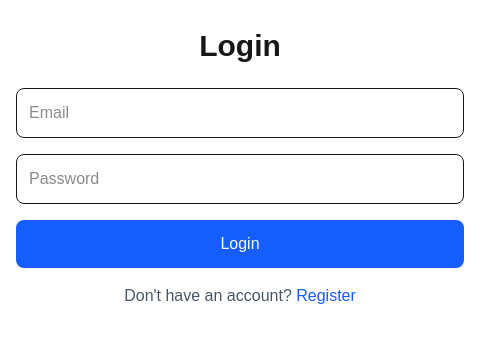
Test: LoginPage › should display generic error on signIn rejection
The width and height of the screenshot is (481, 339).
Type "test@test.com" into the field with placeholder "Email" at {"x": 240, "y": 113}, box [16, 88, 464, 138]
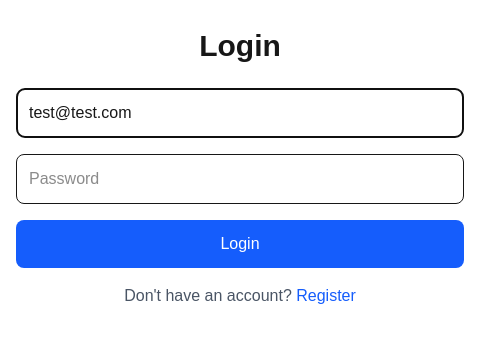
Type "password123" into the password field with placeholder "Password" at {"x": 240, "y": 179}, box [16, 154, 464, 204]
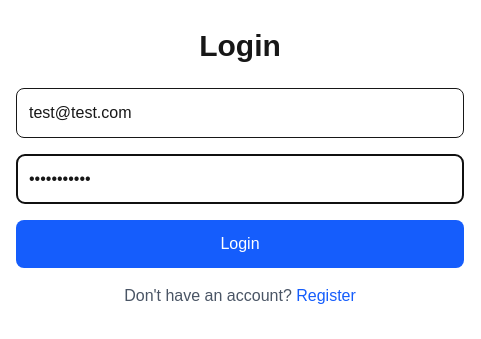
Click the button "Login" at {"x": 240, "y": 244}, box [16, 220, 464, 268]
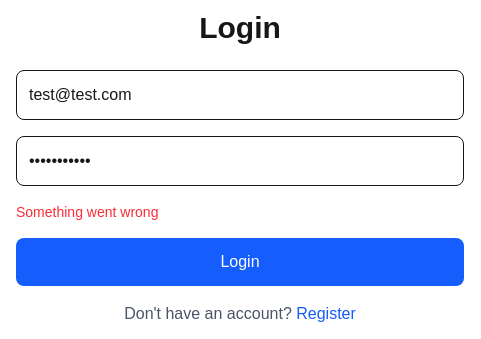
Now the text "Something went wrong" is shown, box [16, 204, 158, 220]
